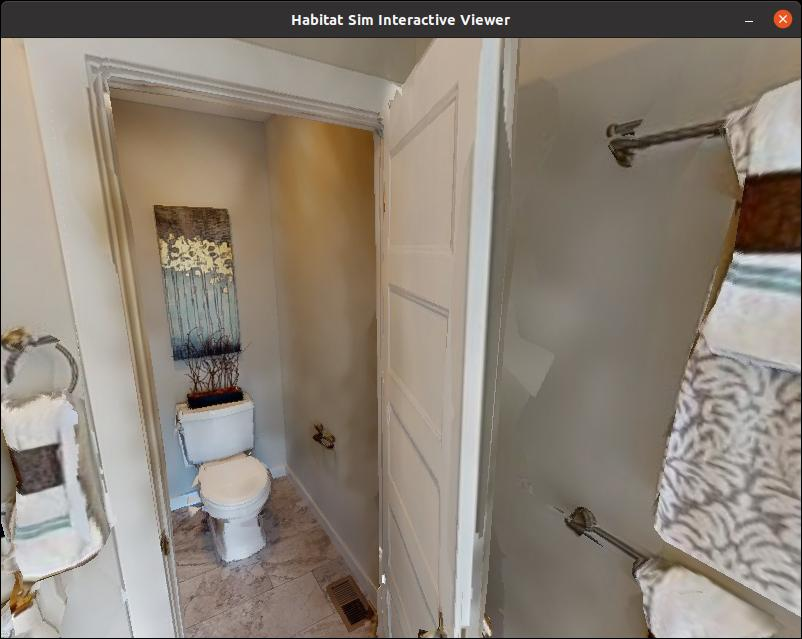door: (377, 33, 520, 639)
door-frame: (15, 37, 477, 639)
toilet: (167, 377, 313, 574)
